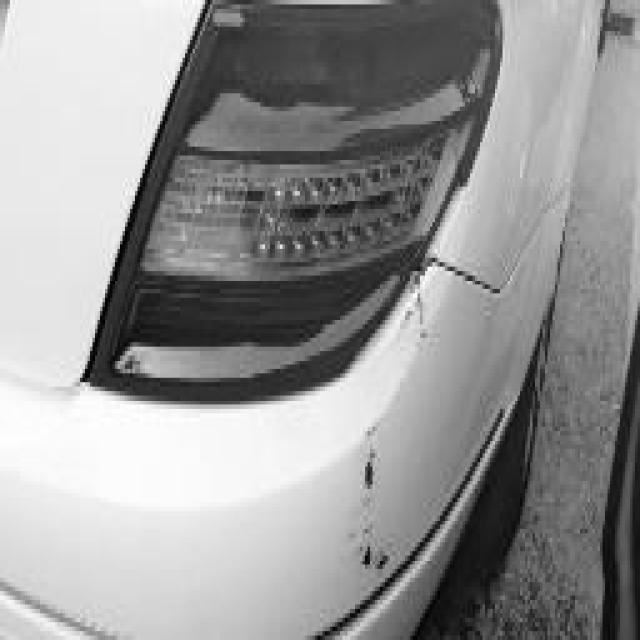Bumper: (340, 271, 442, 618)
